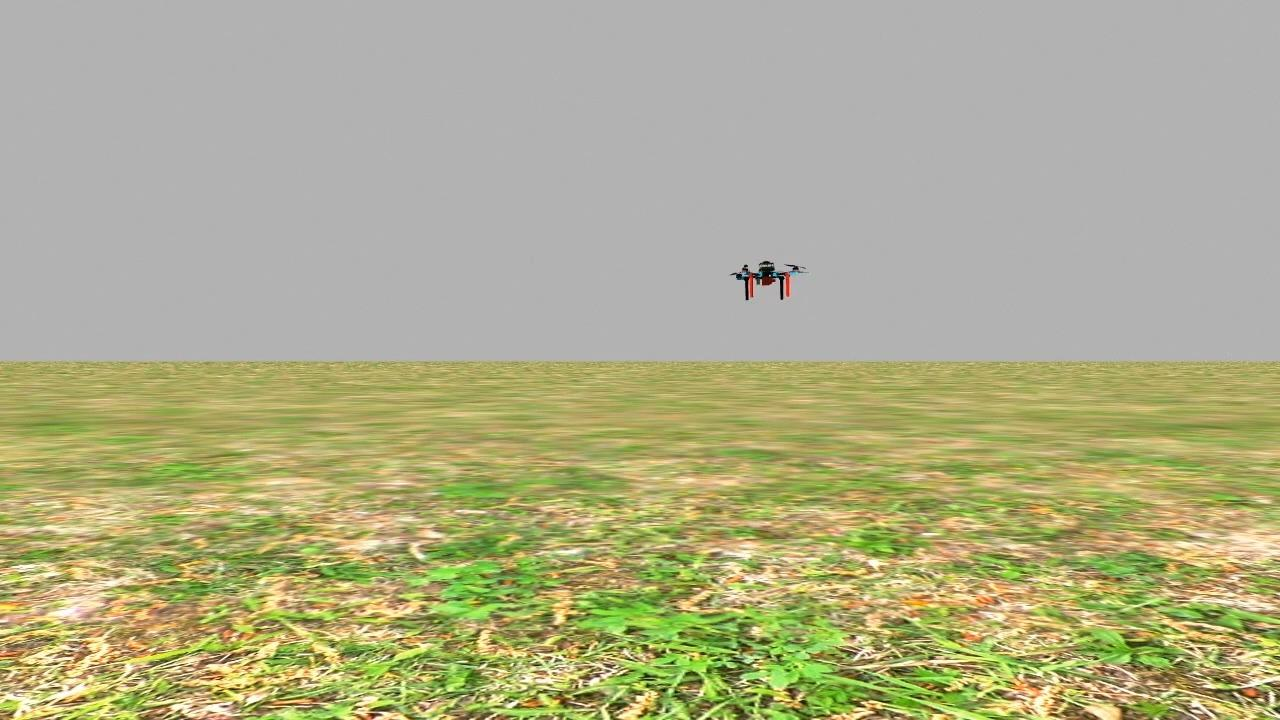UAV: (729, 242, 802, 317)
